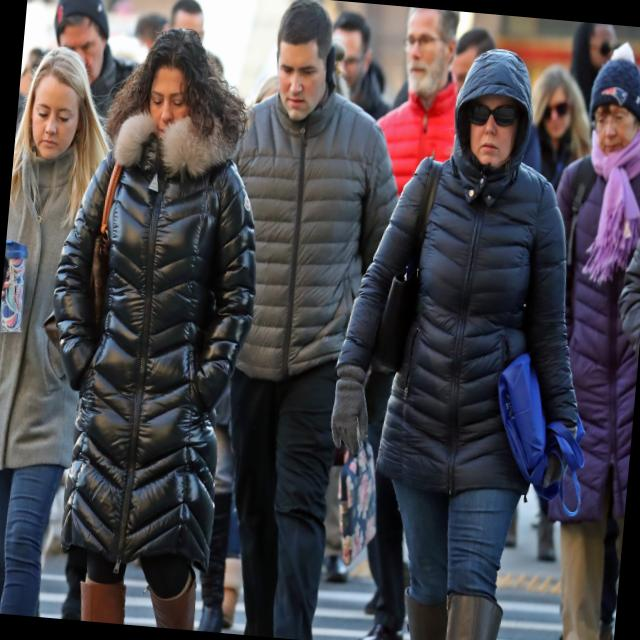Jacket: (344, 138, 604, 528), (54, 148, 266, 548), (200, 84, 410, 408), (512, 133, 640, 535), (0, 134, 113, 487)
